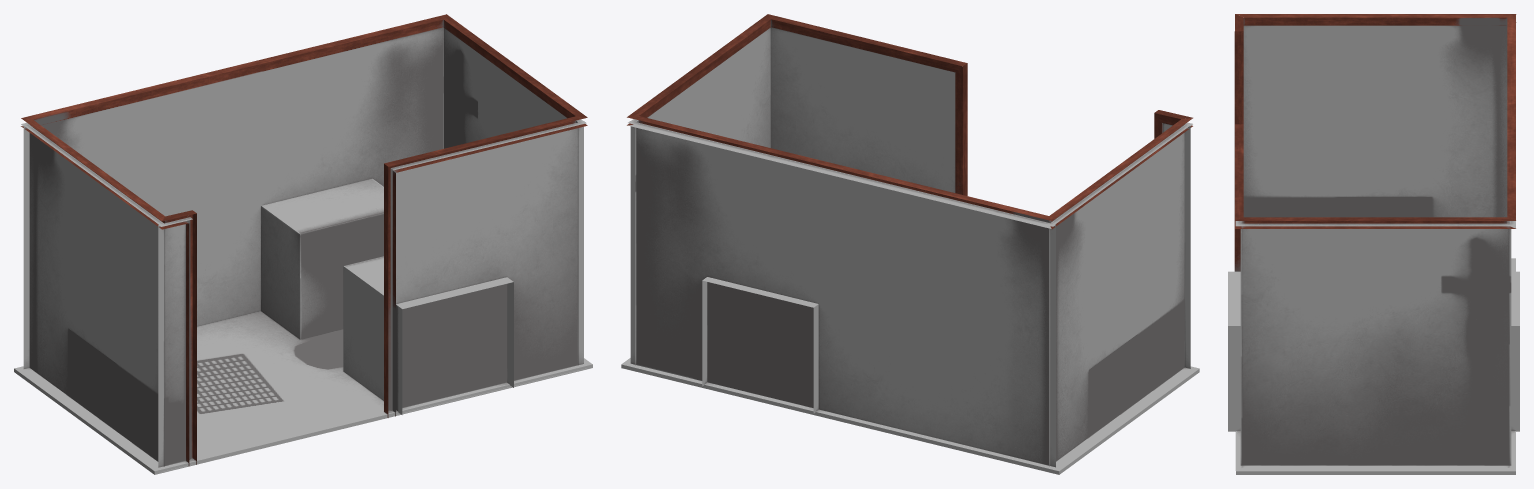
The model's file is SM_Block_Floor.fbx.
3 views of the same model, side by side, from view 1: azimuth 30°, elevation 25°; view 2: azimuth 150°, elevation 25°; view 3: azimuth 270°, elevation 25° (orthographic).
Parts seen in each view (by area): view 1: SM_Block_Floor; view 2: SM_Block_Floor; view 3: SM_Block_Floor.
Boxes of the visible parts, x1,y1,x2,y2 form: SM_Block_Floor: (14,14,592,474); SM_Block_Floor: (621,14,1199,474); SM_Block_Floor: (1228,14,1519,474).
Bounding box in the file's own units: 156 × 90.41 × 85.91.
1 material, 1 textured.
